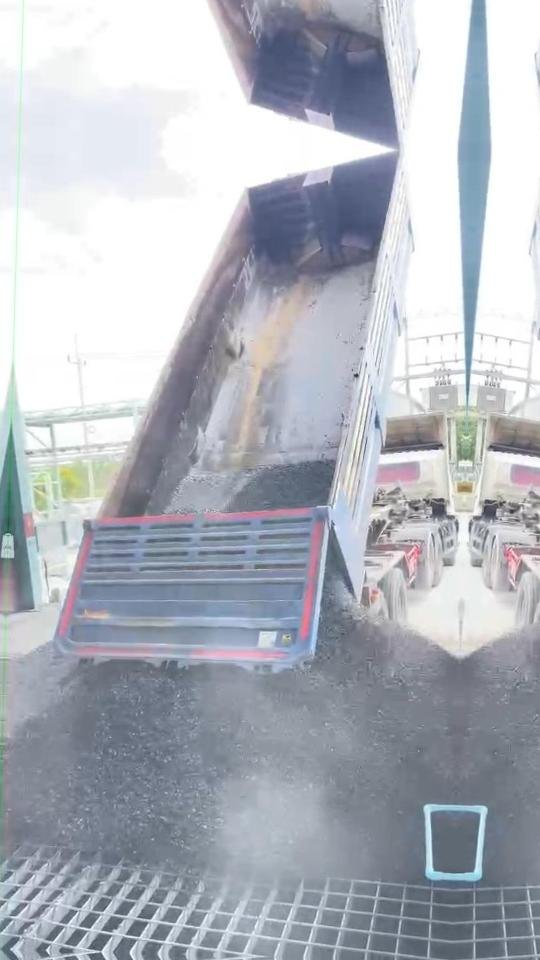gravel: (4, 582, 460, 879), (166, 460, 334, 512), (5, 642, 68, 737), (433, 812, 456, 873)
